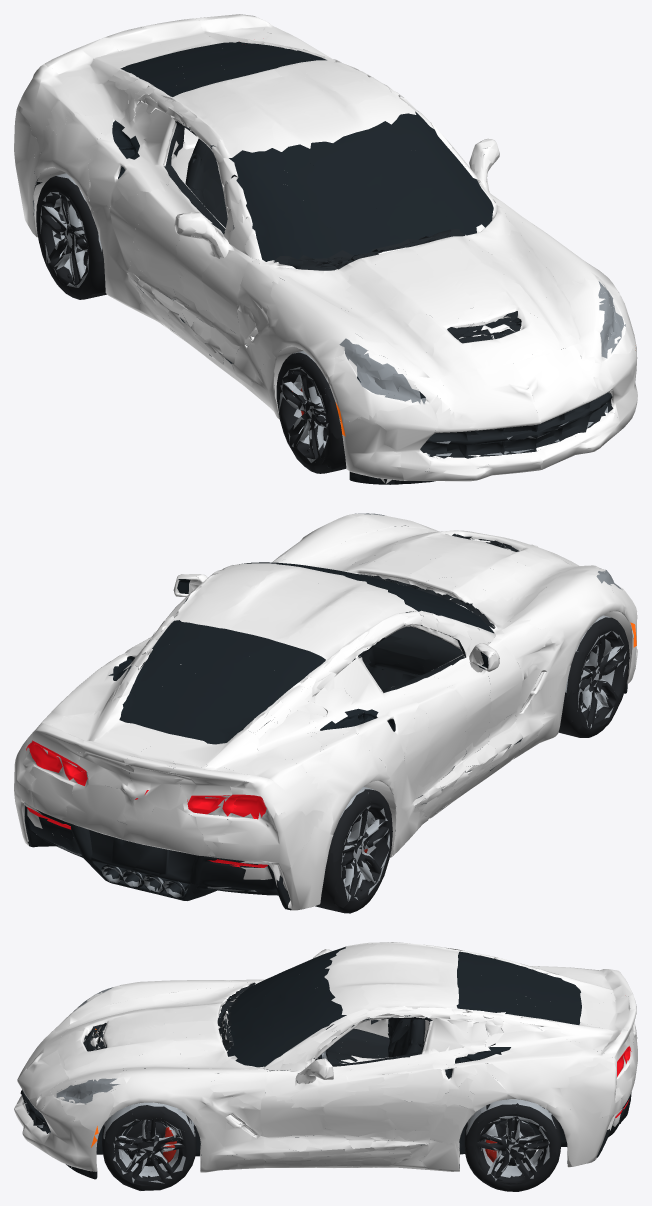
3 views of the same model, one above another, from view 1: azimuth 30°, elevation 25°; view 2: azimuth 150°, elevation 25°; view 3: azimuth 270°, elevation 25° (orthographic). The views are drawn at different scales.
Visible parts, largest first — view 1: BodyMesh, Study_WheelRL, Study_3; view 2: BodyMesh, Study_WheelRL, Study_3; view 3: BodyMesh, Wheel_RRMesh, Study_4.
Part boxes in pixels (<box>): BodyMesh: <box>14,14,637,484</box>; Study_WheelRL: <box>36,173,106,299</box>; Study_3: <box>276,350,346,473</box>; BodyMesh: <box>14,513,637,910</box>; Study_WheelRL: <box>315,786,392,913</box>; Study_3: <box>558,615,629,737</box>; BodyMesh: <box>14,942,637,1179</box>; Wheel_RRMesh: <box>464,1099,560,1191</box>; Study_4: <box>101,1102,196,1190</box>.
Bounding box in the file's own units: 2.04 × 1.34 × 4.49.
